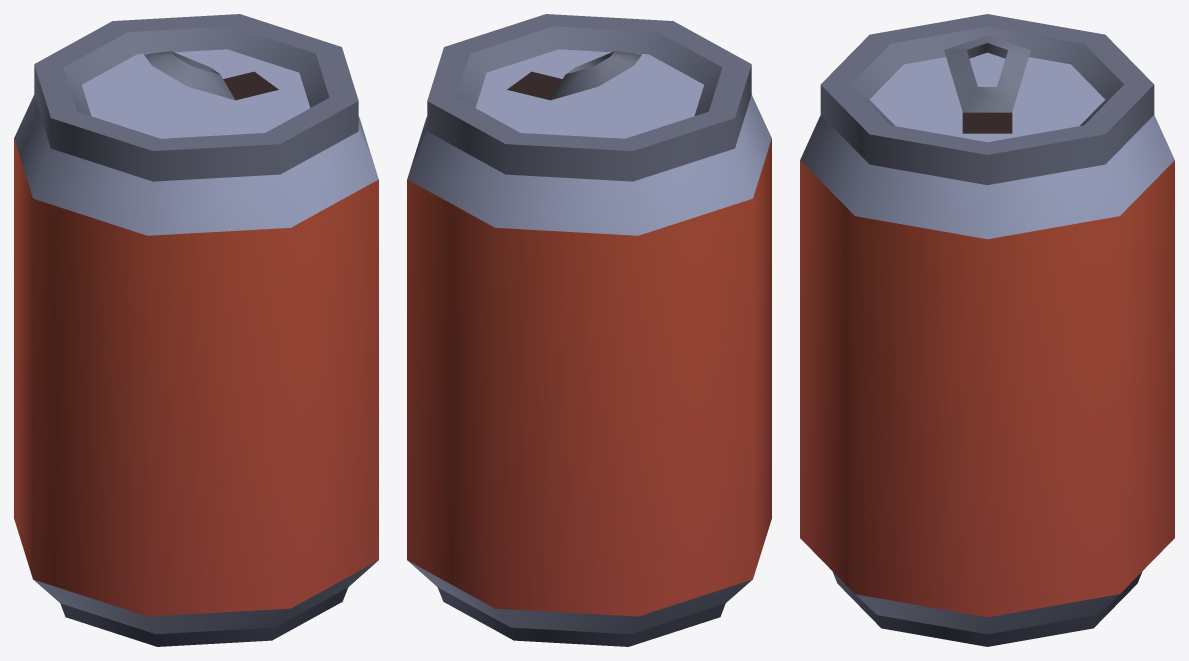
File: soda-can.glb
3 views of the same model, side by side, from view 1: azimuth 30°, elevation 25°; view 2: azimuth 150°, elevation 25°; view 3: azimuth 270°, elevation 25° (orthographic).
Parts seen in each view (by area): view 1: soda-can; view 2: soda-can; view 3: soda-can.
Boxes of the visible parts, box(x1,y1,x2,y2) form: soda-can: box(14, 14, 378, 646); soda-can: box(407, 14, 771, 646); soda-can: box(800, 14, 1174, 646).
Bounding box in the file's own units: 0.2246 × 0.3506 × 0.2246.
